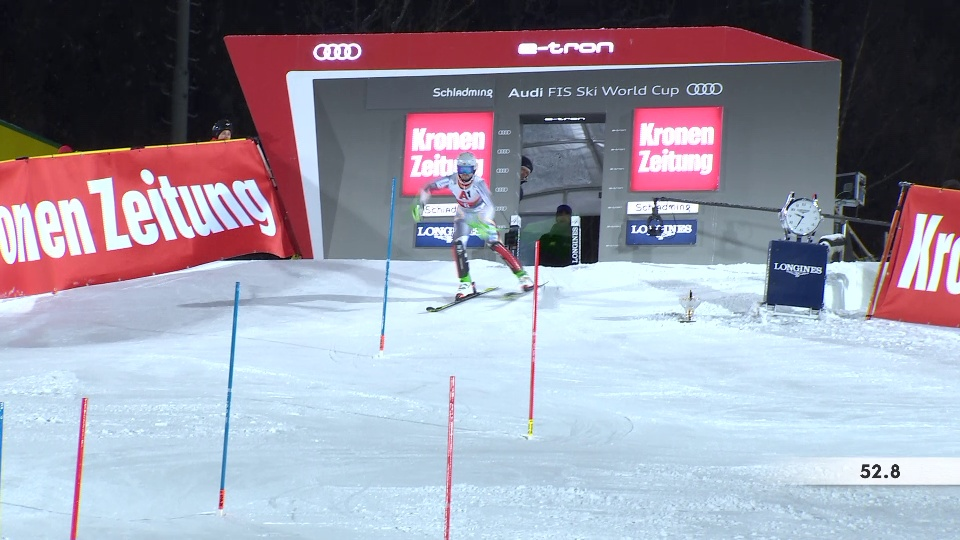a1: (458, 188, 474, 201)
audi: (311, 41, 366, 65), (687, 82, 725, 98)
etron: (517, 40, 621, 59)
kronenzeitung: (12, 147, 297, 294), (893, 212, 959, 342), (634, 120, 721, 183), (409, 125, 481, 184)
longines: (631, 222, 696, 244), (772, 258, 827, 282), (419, 227, 461, 247), (573, 226, 583, 265)
